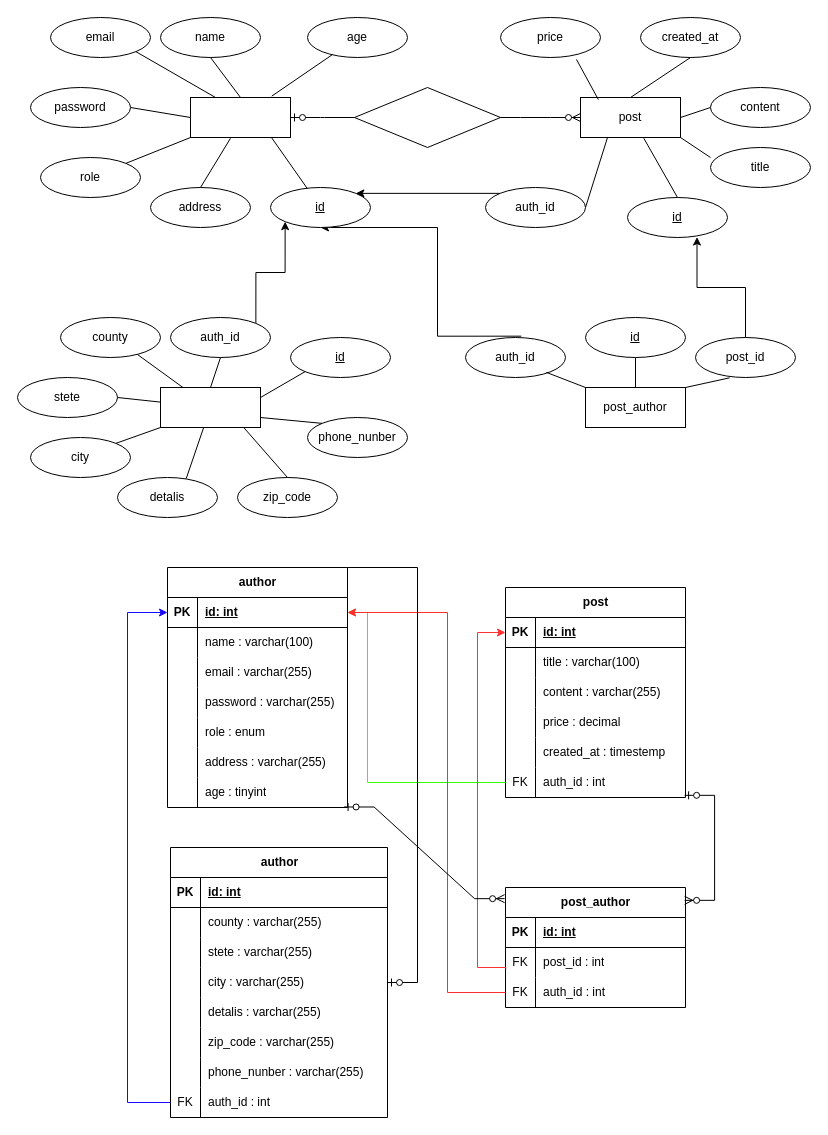
This 828x1135 diagram has some shape labels left out. Each missing label, with the centre of its shape:
"auhtor" goes at pixel 240 117.
"author_address" goes at pixel 210 407.
"글쓰기" goes at pixel 427 117.
